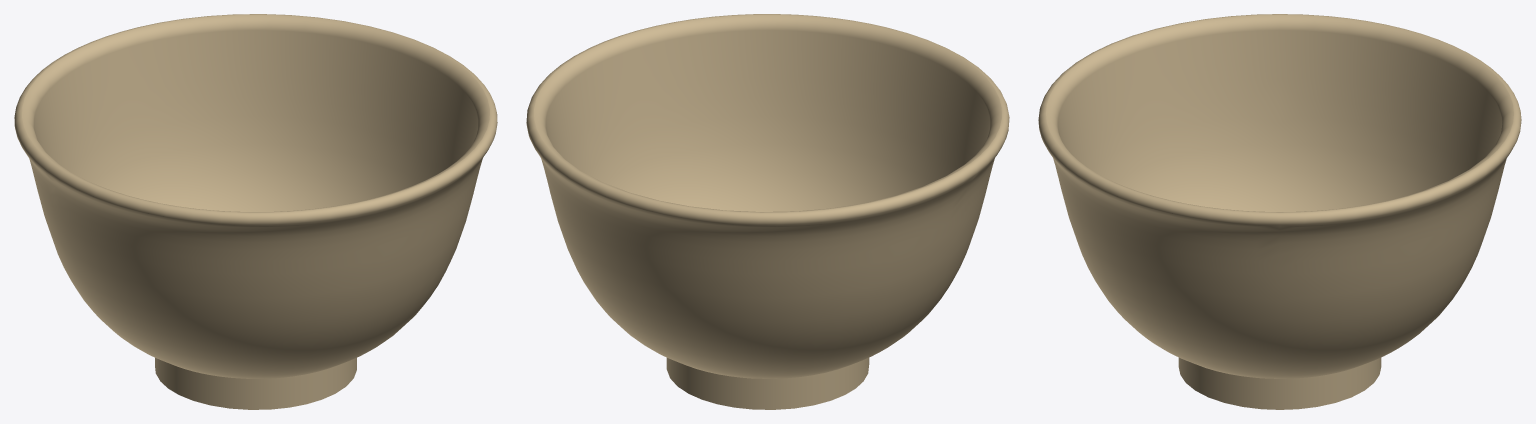
Rendered from 329_めし茶碗.glb.
3 renders of one model, left to right at view 1: azimuth 30°, elevation 25°; view 2: azimuth 150°, elevation 25°; view 3: azimuth 270°, elevation 25°, orthographic.
Parts seen in each view (by area): view 1: Body1; view 2: Body1; view 3: Body1.
Part boxes in pixels (x1=…): Body1: x1=14, y1=14, x2=497, y2=409; Body1: x1=526, y1=14, x2=1009, y2=409; Body1: x1=1038, y1=14, x2=1521, y2=409.
Bounding box in the file's own units: 0.1295 × 0.075 × 0.1295.
